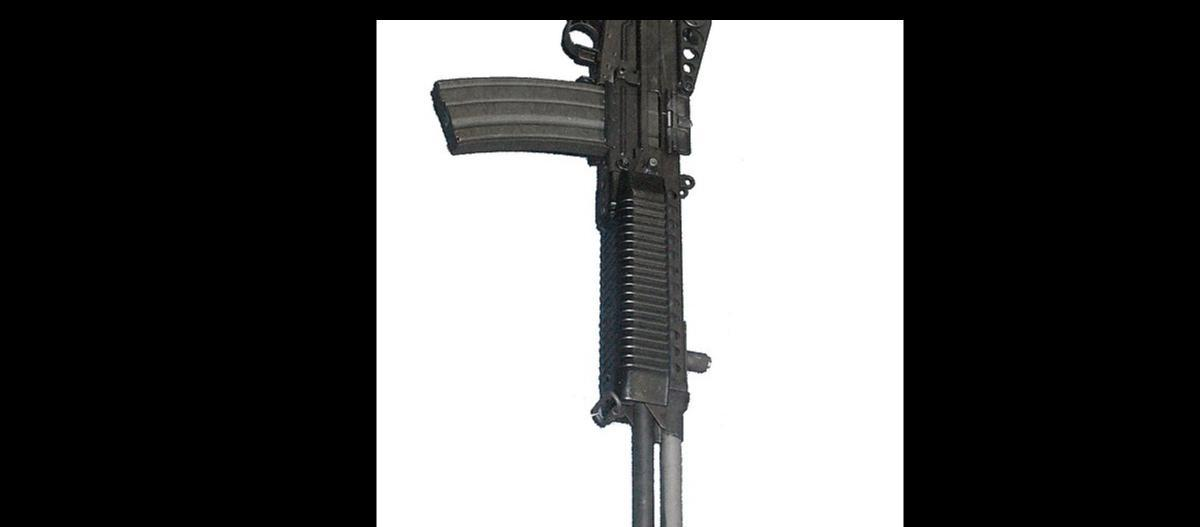larga: (431, 19, 712, 527)
